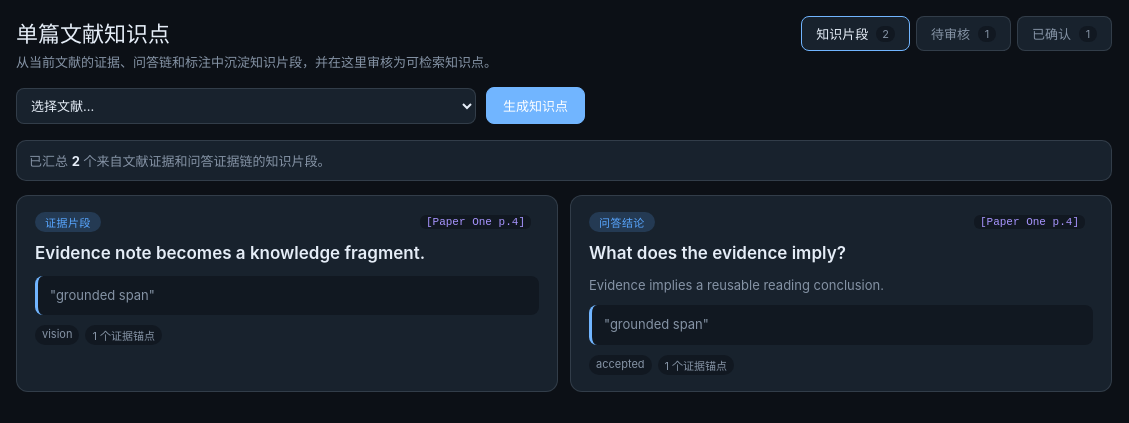
Test: Knowledge review › rejects a draft and removes it from the review queue
Click the button "待审核 1": (964,34) x1=916 y1=16 x2=1011 y2=51
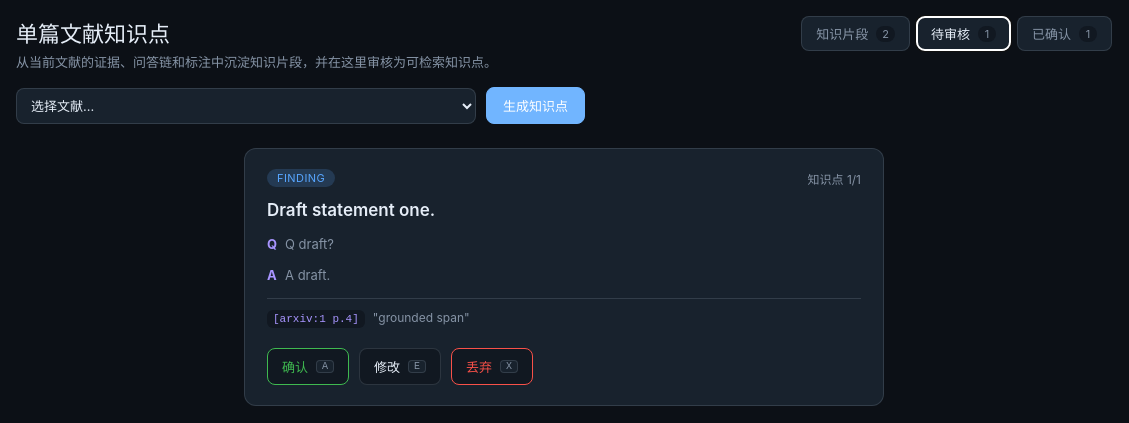
Expected: the text "Draft statement one." is shown, x1=267 y1=200 x2=435 y2=220
Click the button "丢弃 X": (492,367) x1=451 y1=348 x2=533 y2=385
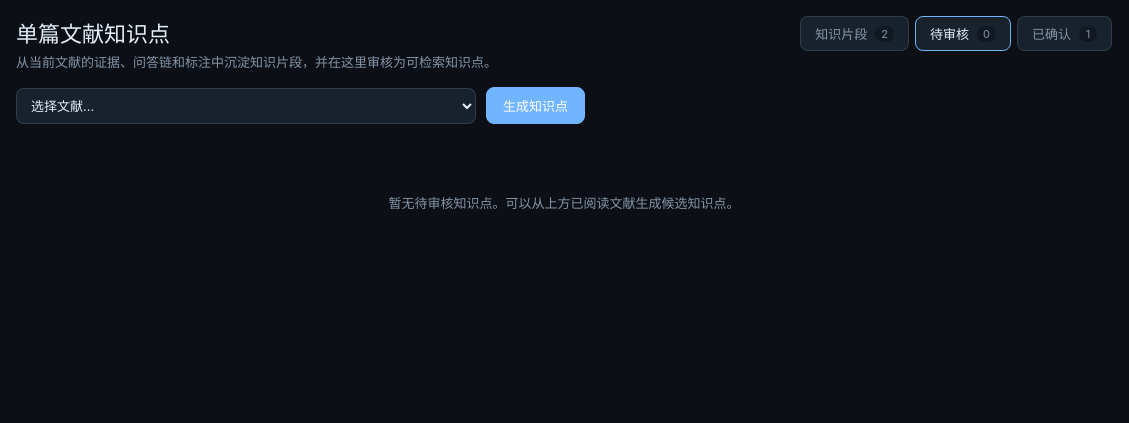
Expected: the text "Draft statement one." is gone
